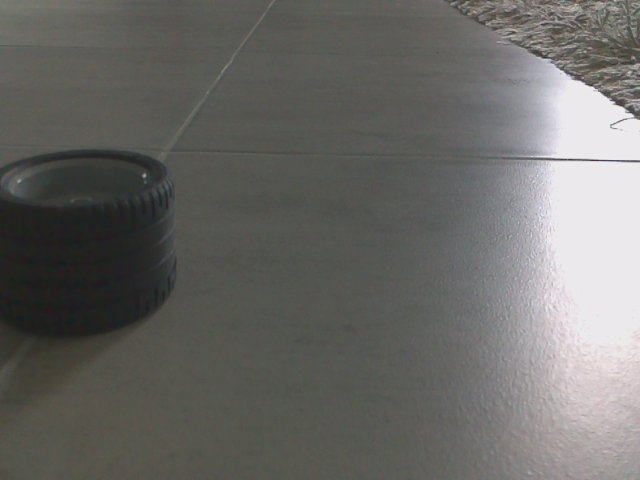Rad: (3, 144, 184, 335)
